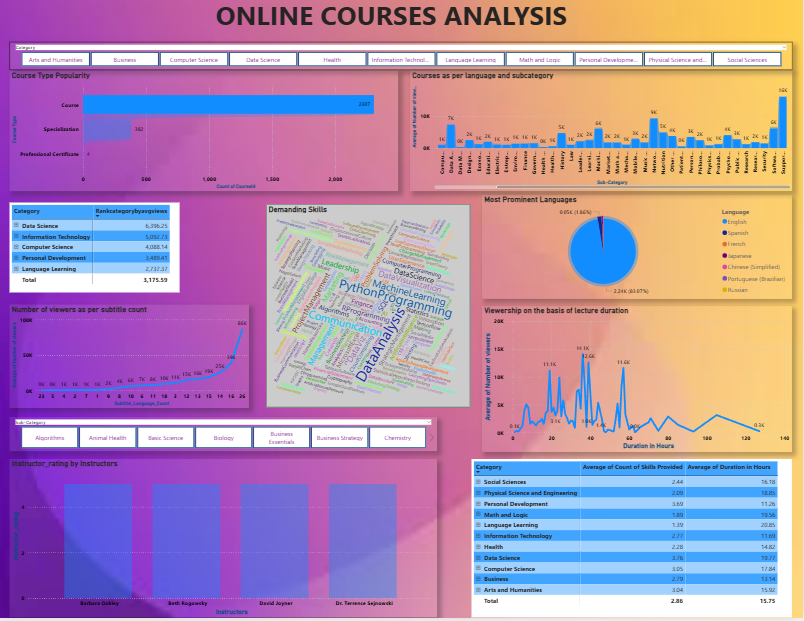

What the dashboard file says about the page in this screenshot:
{"tool":"powerbi","page":{"name":"Page 1","canvas":[1800,1400],"ordinal":0},"visuals":[{"type":"textbox","box":[36.7,13.3,1263.3,106.7],"z":0},{"type":"slicer","fields":{"Values":["Online_Courses.Category"]},"box":[36,120,1740,62],"z":1000},{"type":"barChart","title":"Course Type Popularity","fields":{"Y":["Online_Courses.CourseId"],"Category":["Online_Courses.Course Type"]},"box":[36,182,864,268],"z":2000},{"type":"columnChart","title":"Courses as per language and subcategory","fields":{"Category":["Online_Courses.Sub-Category","Online_Courses.Language"],"Y":["Online_Courses.Number of viewers"]},"box":[926,182,850,268],"z":3000},{"type":"WordCloud1447959067750","title":"Demanding  Skills","fields":{"Category":["Online_Courses.Skills"]},"box":[608,480,454,452],"z":4000},{"type":"pieChart","title":"Most Prominent Languages","fields":{"Category":["Online_Courses.Language"],"Y":["Online_Courses.CourseId"]},"box":[1088,460,688,230],"z":5000},{"type":"pivotTable","fields":{"Rows":["Online_Courses.Category","Online_Courses.Language"],"Values":["Online_Courses.Rankcategorybyavgviews"]},"box":[36,476,378,200],"z":6000},{"type":"lineChart","title":"Number of viewers as per subtitle count","fields":{"Category":["Online_Courses.Subtitle_Language_Count"],"Y":["Online_Courses.Number of viewers"]},"box":[36,702,532,230],"z":7000},{"type":"clusteredColumnChart","fields":{"Category":["Teachers.Instructors"],"Y":["Teachers.Instructor_rating"]},"box":[36,1048,950,352],"z":8000},{"type":"slicer","fields":{"Values":["Teachers.Sub-Category"]},"box":[36,954,950,76],"z":9000},{"type":"lineChart","title":"Viewership on the basis of lecture duration","fields":{"Category":["Online_Courses.Duration in Hours"],"Y":["Online_Courses.Number of viewers"]},"box":[1088,706,688,324],"z":10000},{"type":"pivotTable","fields":{"Rows":["Online_Courses.Category","Online_Courses.Sub-Category"],"Values":["Online_Courses.Count of Skills Provided","Online_Courses.Duration in Hours"]},"box":[1062,1048,712,352],"z":11000}]}

Visuals, with their boxes in screenshot pixels (x1, y1, x2, y2), scaled from the page's 1800x1400 canvas onto the 804x621 screenshot:
textbox: (x1=16, y1=6, x2=581, y2=53)
slicer - Online_Courses.Category: (x1=16, y1=53, x2=793, y2=81)
"Course Type Popularity" barChart: (x1=16, y1=81, x2=402, y2=200)
"Courses as per language and subcategory" columnChart: (x1=414, y1=81, x2=793, y2=200)
"Demanding  Skills" WordCloud1447959067750: (x1=272, y1=213, x2=474, y2=413)
"Most Prominent Languages" pieChart: (x1=486, y1=204, x2=793, y2=306)
pivotTable - Online_Courses.Category x Online_Courses.Language: (x1=16, y1=211, x2=185, y2=300)
"Number of viewers as per subtitle count" lineChart: (x1=16, y1=311, x2=254, y2=413)
clusteredColumnChart - Teachers.Instructors x Teachers.Instructor_rating: (x1=16, y1=465, x2=440, y2=620)
slicer - Teachers.Sub-Category: (x1=16, y1=423, x2=440, y2=457)
"Viewership on the basis of lecture duration" lineChart: (x1=486, y1=313, x2=793, y2=457)
pivotTable - Online_Courses.Category x Online_Courses.Sub-Category: (x1=474, y1=465, x2=792, y2=620)
